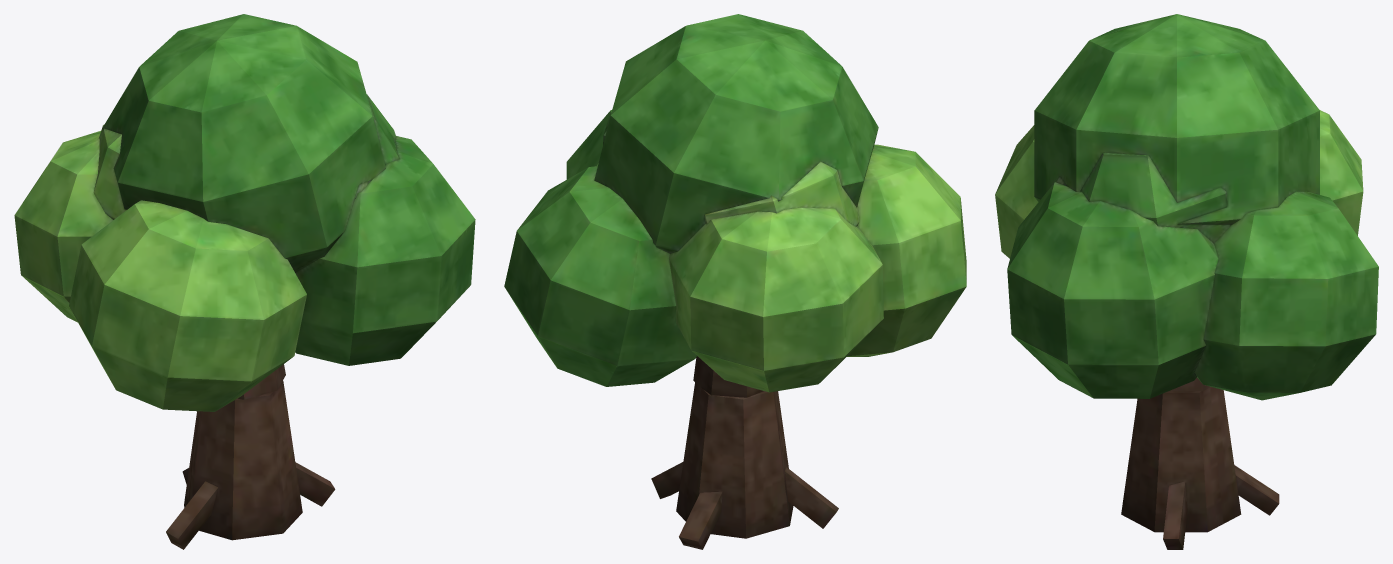
The model's file is tree_oak.glb.
3 renders of one model, left to right at view 1: azimuth 30°, elevation 25°; view 2: azimuth 150°, elevation 25°; view 3: azimuth 270°, elevation 25°, orthographic.
Parts seen in each view (by area): view 1: Static_Mesh; view 2: Static_Mesh; view 3: Static_Mesh.
Boxes of the visible parts, x1,y1,x2,y2 form: Static_Mesh: (14,14,475,549); Static_Mesh: (504,14,966,549); Static_Mesh: (995,14,1378,549).
Bounding box in the file's own units: 5.35 × 6.63 × 4.73.
1 material, 1 textured.
